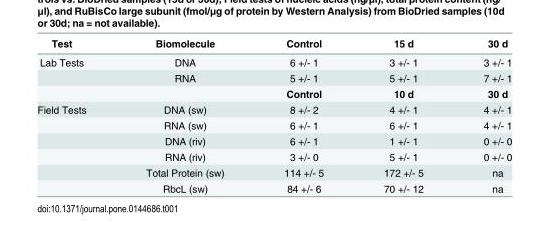table: (36, 36, 511, 193)
table column: (115, 36, 253, 193), (253, 36, 353, 193), (353, 36, 452, 193), (36, 36, 115, 193), (452, 36, 511, 193)
table column header: (36, 36, 511, 52)
table row: (36, 52, 511, 69), (36, 36, 511, 52), (36, 69, 511, 85), (36, 85, 511, 101), (36, 101, 511, 117), (36, 132, 511, 148), (36, 148, 511, 164), (36, 164, 511, 180), (36, 117, 511, 132), (36, 180, 511, 193)
table spanning cell: (36, 101, 115, 193), (36, 52, 115, 101)
